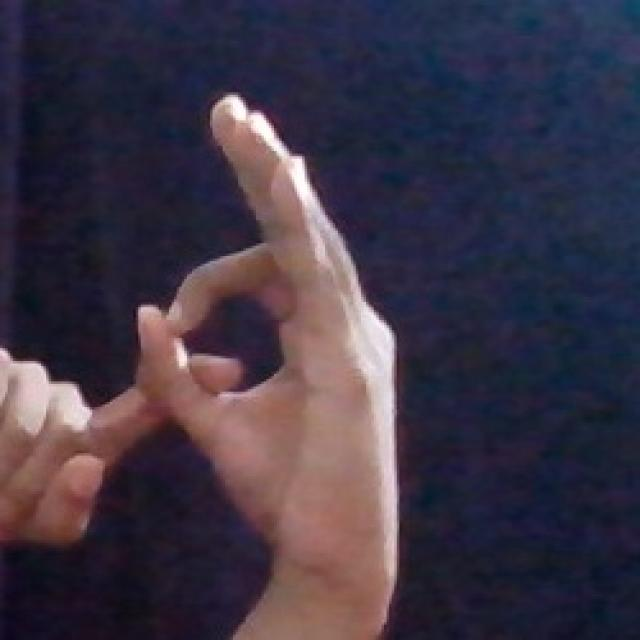Alphabet-Q: (0, 90, 412, 640)
